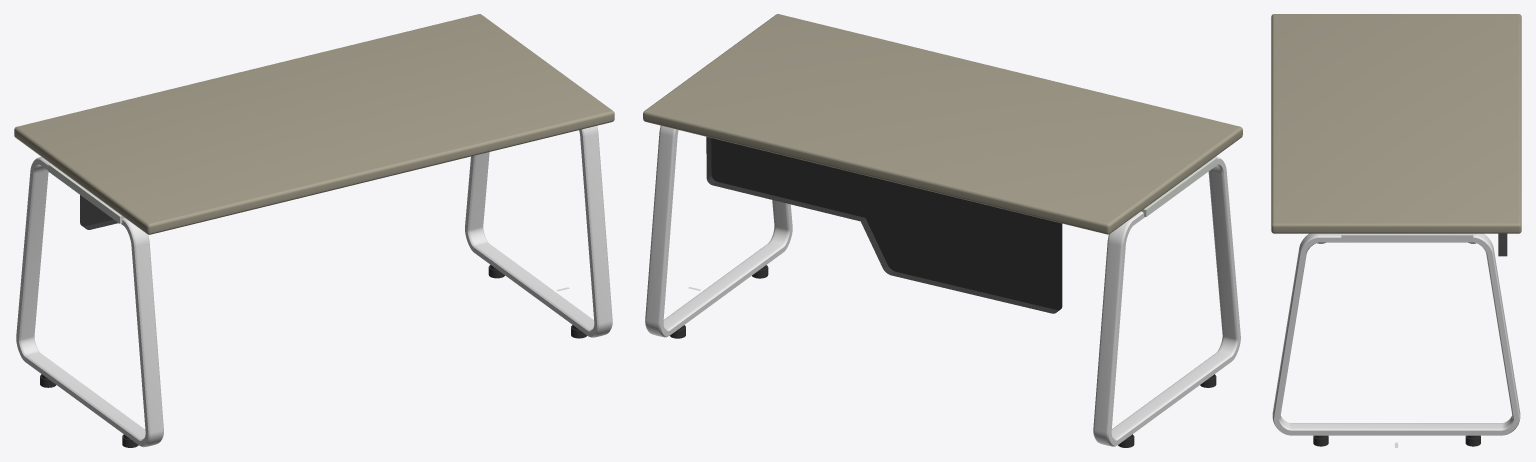
The model's file is Masa.fbx.
3 renders of one model, left to right at view 1: azimuth 30°, elevation 25°; view 2: azimuth 150°, elevation 25°; view 3: azimuth 270°, elevation 25°, orthographic. The views are drawn at different scales.
Parts seen in each view (by area): view 1: Cube, Trapezoid.001, Trapezoid, Vert.002, Plane; view 2: Cube, Plane, Trapezoid.001, Trapezoid, Vert.002; view 3: Cube, Trapezoid, Vert.001.
Part boxes in pixels (<box>): Cube: <box>14,14,614,234</box>; Trapezoid.001: <box>16,157,163,447</box>; Trapezoid: <box>465,126,612,337</box>; Vert.002: <box>48,164,124,223</box>; Plane: <box>80,195,118,229</box>; Cube: <box>643,14,1242,234</box>; Plane: <box>706,137,1062,313</box>; Trapezoid.001: <box>1093,156,1240,446</box>; Trapezoid: <box>645,125,792,337</box>; Vert.002: <box>1141,157,1217,216</box>; Cube: <box>1271,14,1521,233</box>; Trapezoid: <box>1272,233,1520,435</box>; Vert.001: <box>1341,233,1473,239</box>.
Bounding box in the file's own units: 209 × 98.45 × 100.
